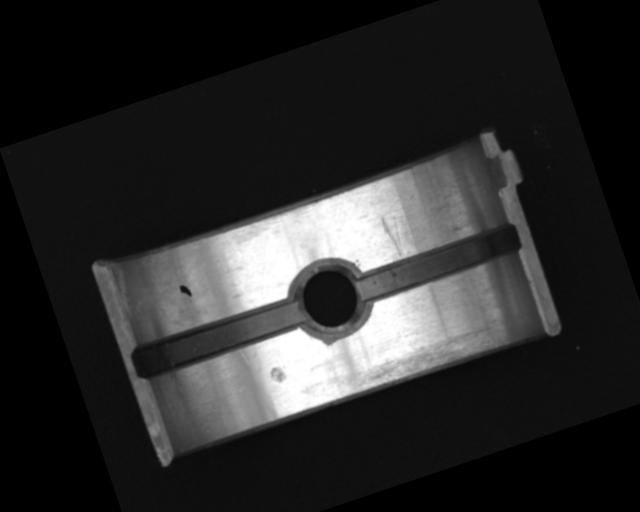blot: (178, 282, 193, 300)
bruise: (266, 363, 288, 385)
gap: (128, 292, 310, 383), (356, 220, 524, 305)
hole: (284, 248, 379, 348)
nick: (377, 210, 410, 263)
scratch: (345, 320, 506, 398)
